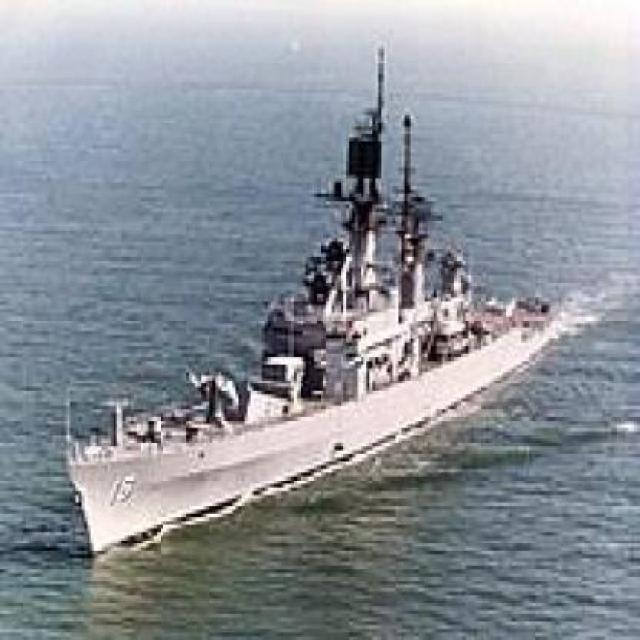warship2: (68, 61, 580, 564)
